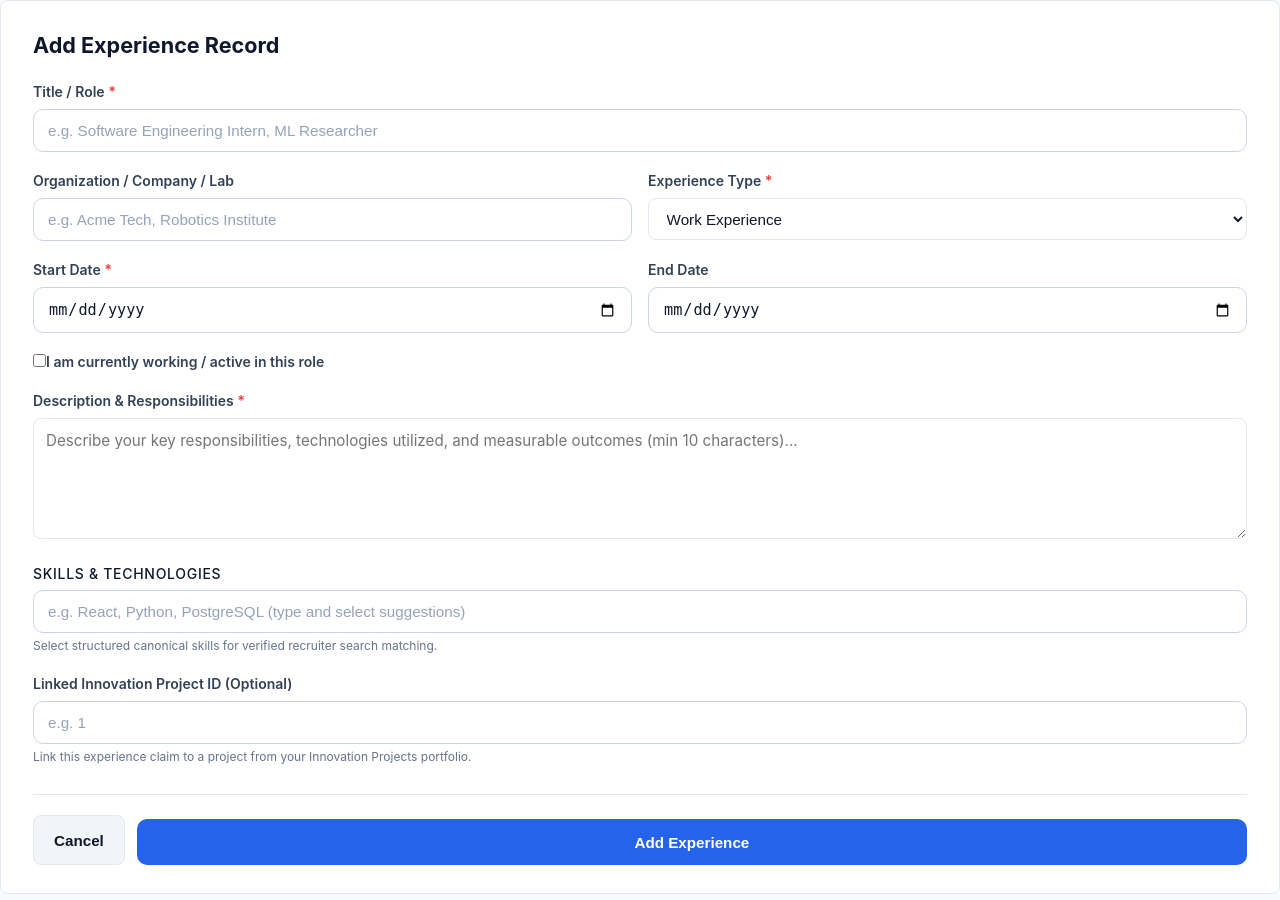
Test case: ExperienceForm Component › disables and clears end date when current role checkbox is selected
In the date field labelled "End Date": (948, 310) [648,287,1247,333], type "2025-12-31"
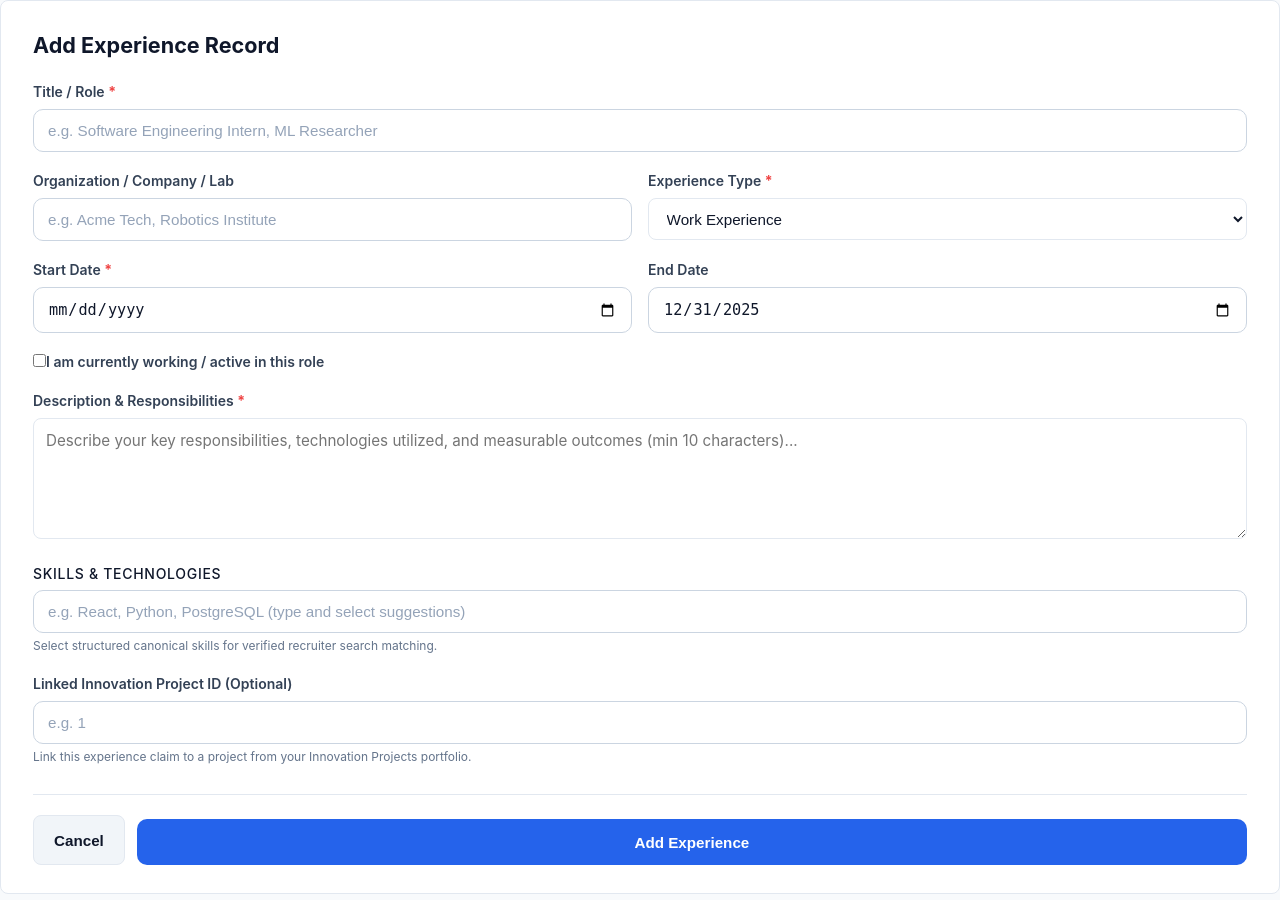
Click the checkbox labelled "I am currently working / active in this role": (40, 361) [33,354,46,367]
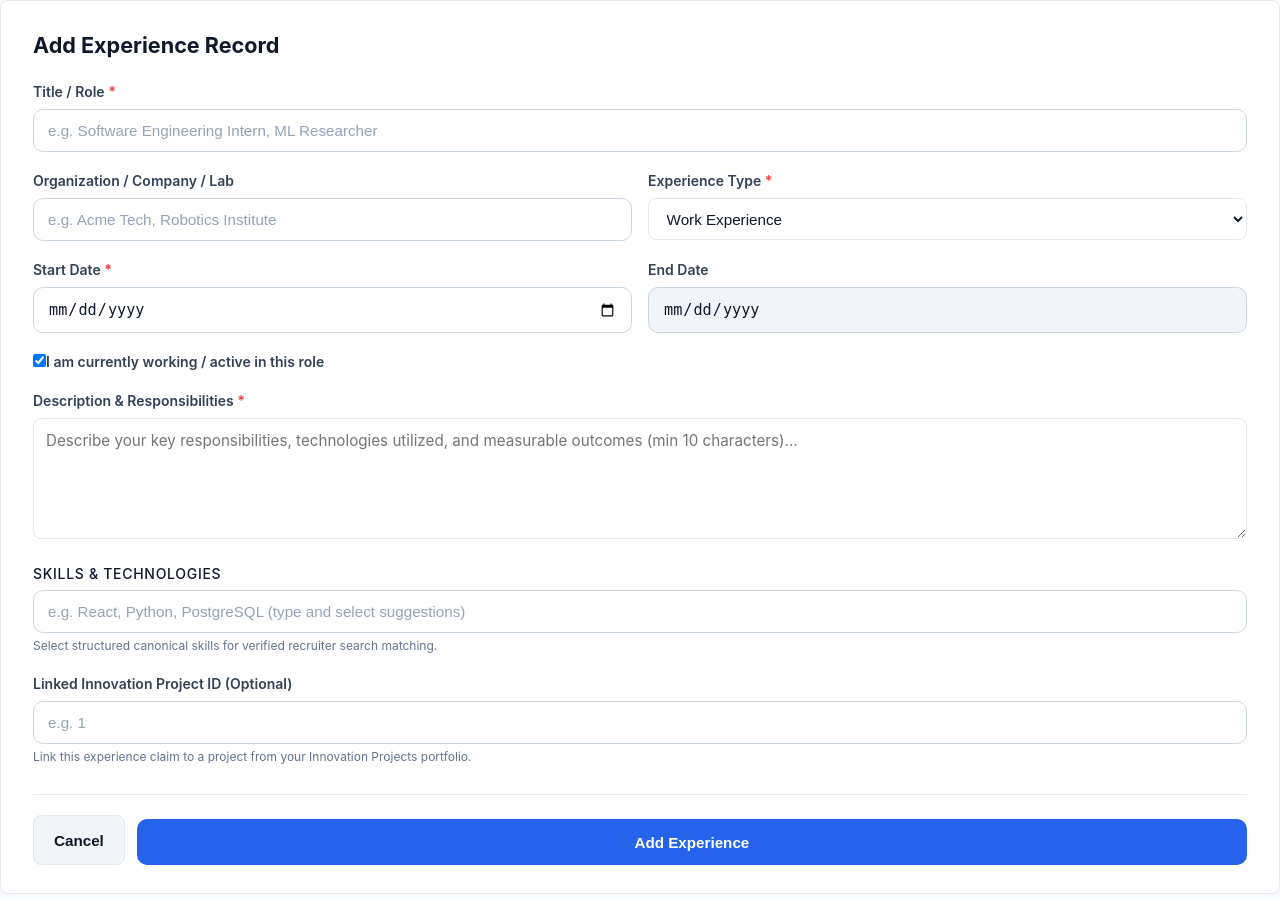
Now the checkbox labelled "I am currently working / active in this role" is checked, box [33,354,46,367]
Now the date field labelled "End Date" is disabled, box [648,287,1247,333]
Now the date field labelled "End Date" is empty, box [648,287,1247,333]
